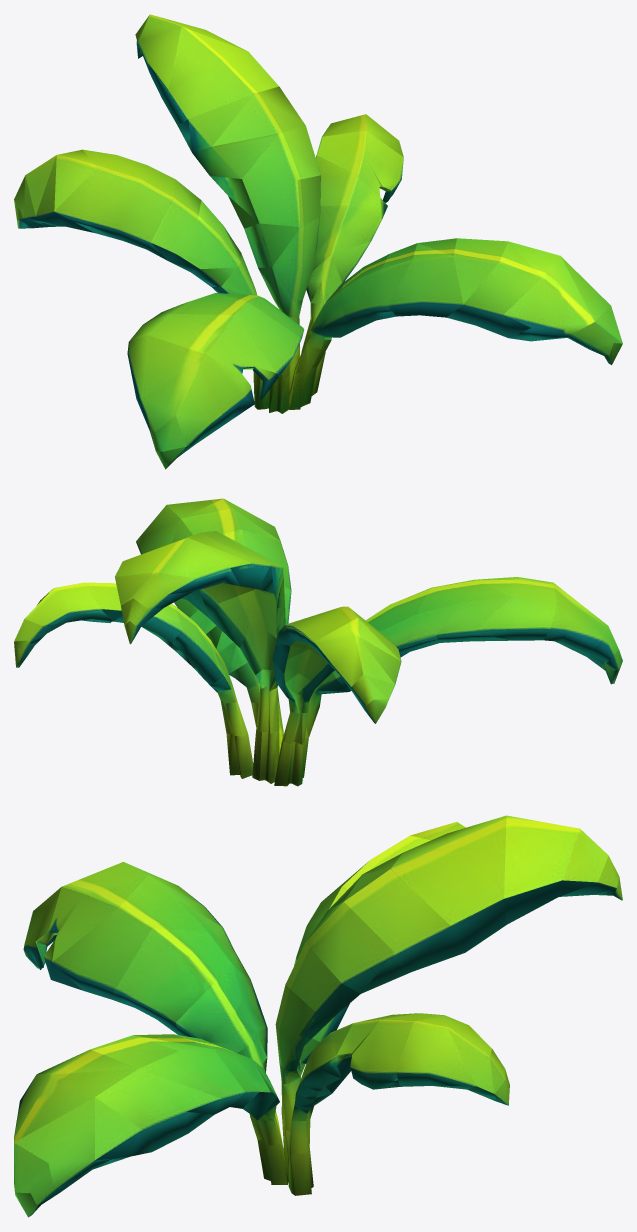
Rendered from leaf.glb.
3 views of the same model, one above another, from view 1: azimuth 30°, elevation 25°; view 2: azimuth 150°, elevation 25°; view 3: azimuth 270°, elevation 25° (orthographic). The views are drawn at different scales.
Visible parts, largest first — view 1: leaf; view 2: leaf; view 3: leaf.
Boxes of the visible parts, left/top/right/bottom form: leaf: left=14, top=14, right=622, bottom=469; leaf: left=14, top=498, right=622, bottom=786; leaf: left=14, top=815, right=622, bottom=1217.
Size of the model in its own units: 1 by 0.6465 by 1.
Materials: 1 (1 with a texture image).
